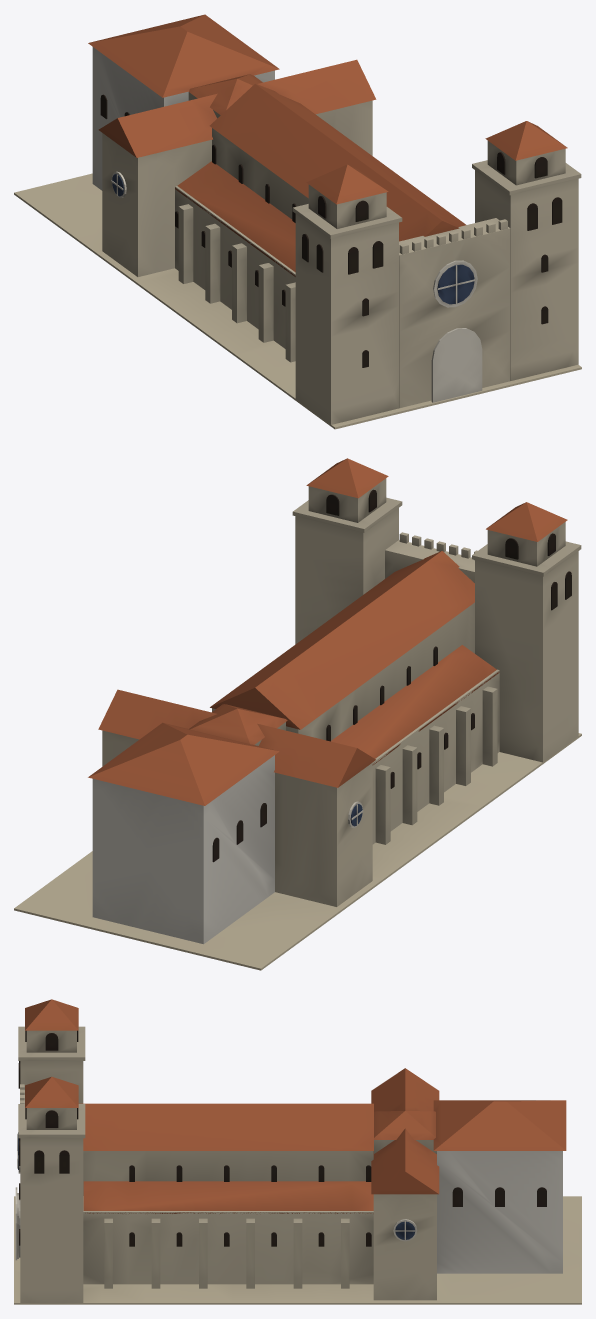
The picture shows the model from 3 angles, top to bottom: view 1: azimuth 30°, elevation 25°; view 2: azimuth 150°, elevation 25°; view 3: azimuth 270°, elevation 25°; orthographic projection. The views are drawn at different scales.
Visible parts, largest first — view 1: p1_nave, p2_towers, p0_ground; view 2: p1_nave, p2_towers, p0_ground; view 3: p1_nave, p2_towers, p0_ground.
Boxes of the visible parts, x1,y1,x2,y2 form: p1_nave: (88, 14, 465, 362); p2_towers: (292, 121, 581, 424); p0_ground: (14, 173, 581, 429); p1_nave: (88, 551, 499, 944); p2_towers: (292, 458, 581, 762); p0_ground: (14, 733, 581, 970); p1_nave: (79, 1068, 566, 1300); p2_towers: (15, 999, 85, 1302); p0_ground: (14, 1196, 581, 1304).
Bounding box in the file's own units: 40.6 × 37.3 × 90.
